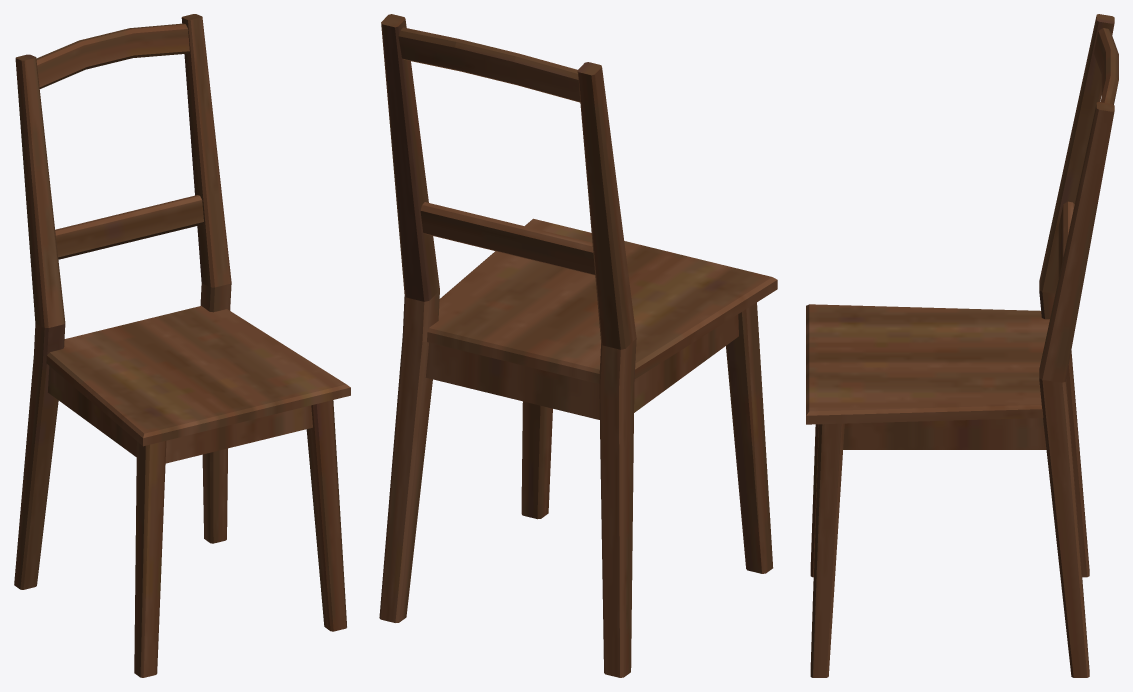
The model's file is Chair.obj.
The picture shows the model from 3 angles, left to right: view 1: azimuth 30°, elevation 25°; view 2: azimuth 150°, elevation 25°; view 3: azimuth 270°, elevation 25°; orthographic projection. The views are drawn at different scales.
Parts seen in each view (by area): view 1: chair; view 2: chair; view 3: chair.
Part boxes in pixels (bbox=[...]): chair: bbox=[14, 14, 350, 677]; chair: bbox=[379, 14, 777, 677]; chair: bbox=[806, 14, 1118, 677].
Size of the model in its own units: 0.4 by 0.9524 by 0.4805.
Materials: 1 (1 with a texture image).
